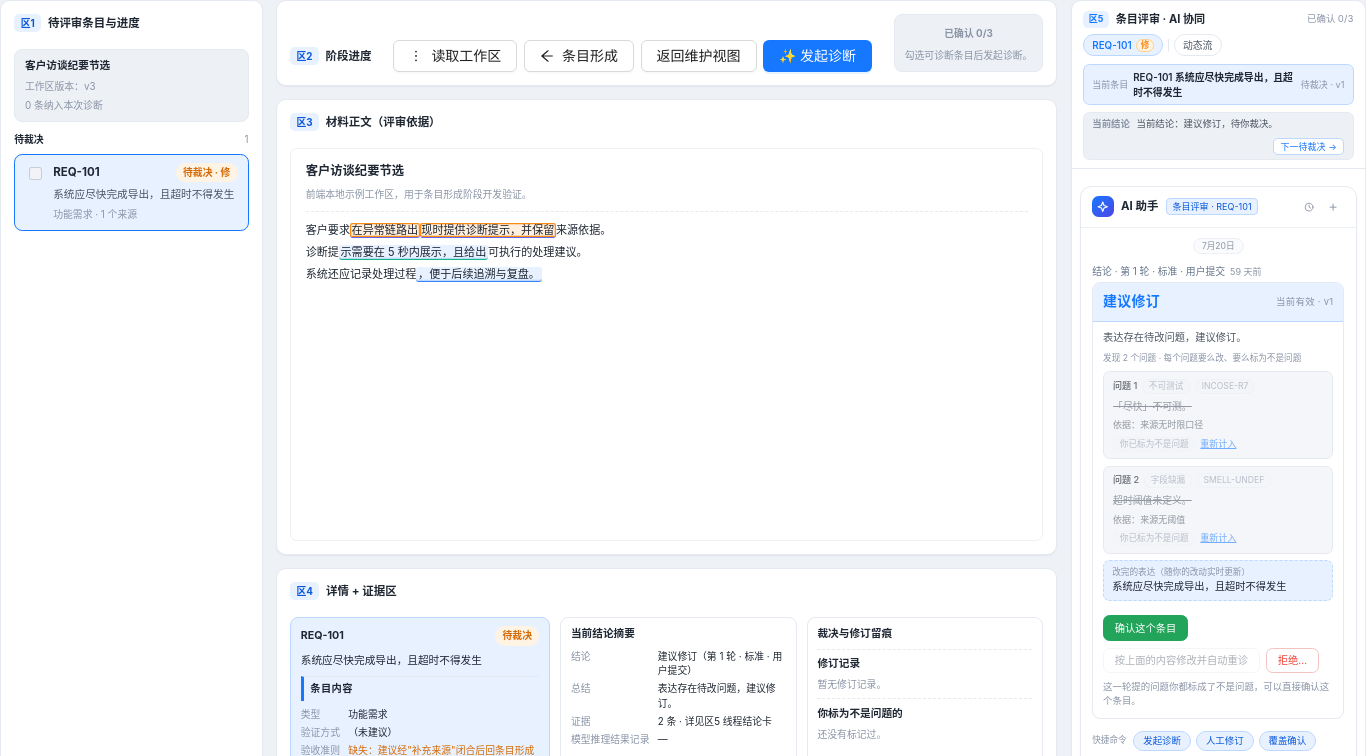
Test: 全部问题被标记后的确认出口 › C44：确认写成功但随后刷新失败时，说的是「已确认」加取不到数据，不是确认失败
Expected: the text "表达存在待改问题，建议修订。" below "当前有效 · v" is shown, [1103,331,1247,343]
Click the button "确认这个条目". click: {"x": 1146, "y": 628}
box: [1103,615,1188,641]
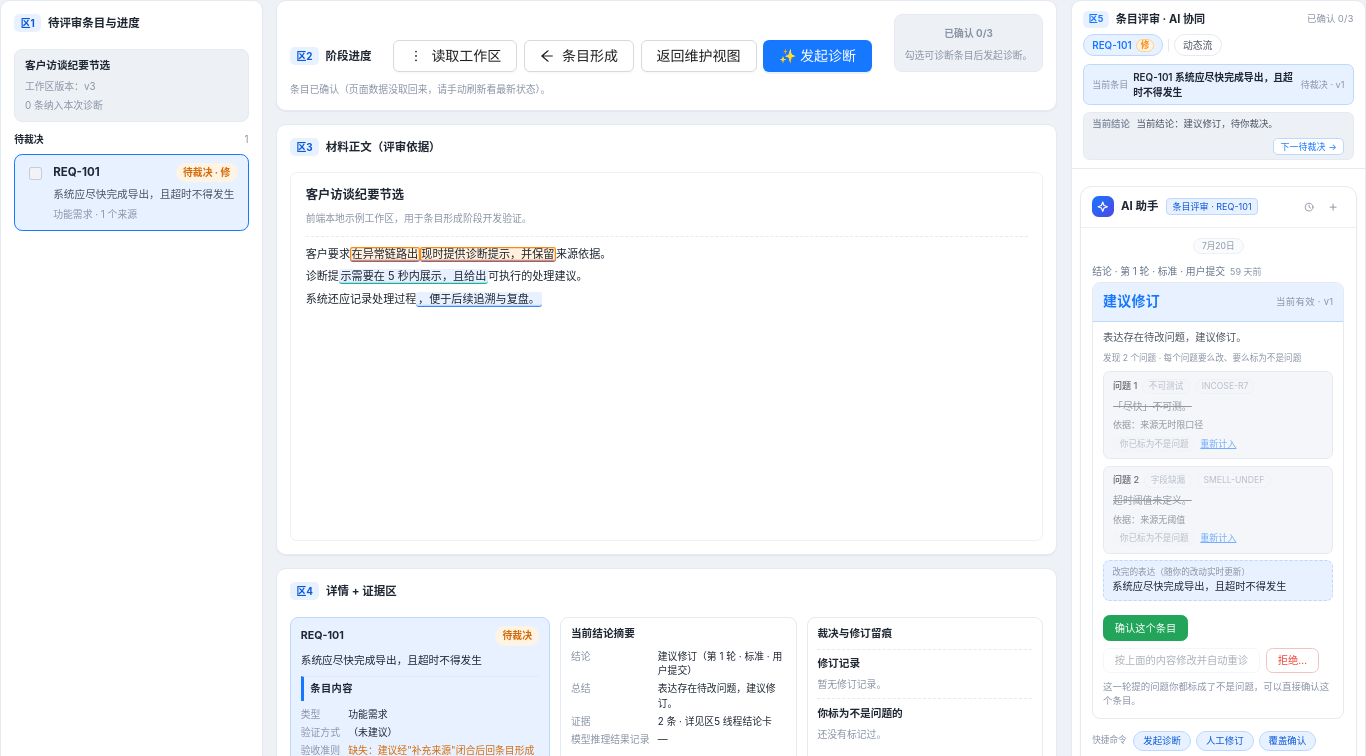
Now the text "条目已确认（页面数据没取回来，请手动刷新看最新状态）。" is shown, box [290,83,550,95]
